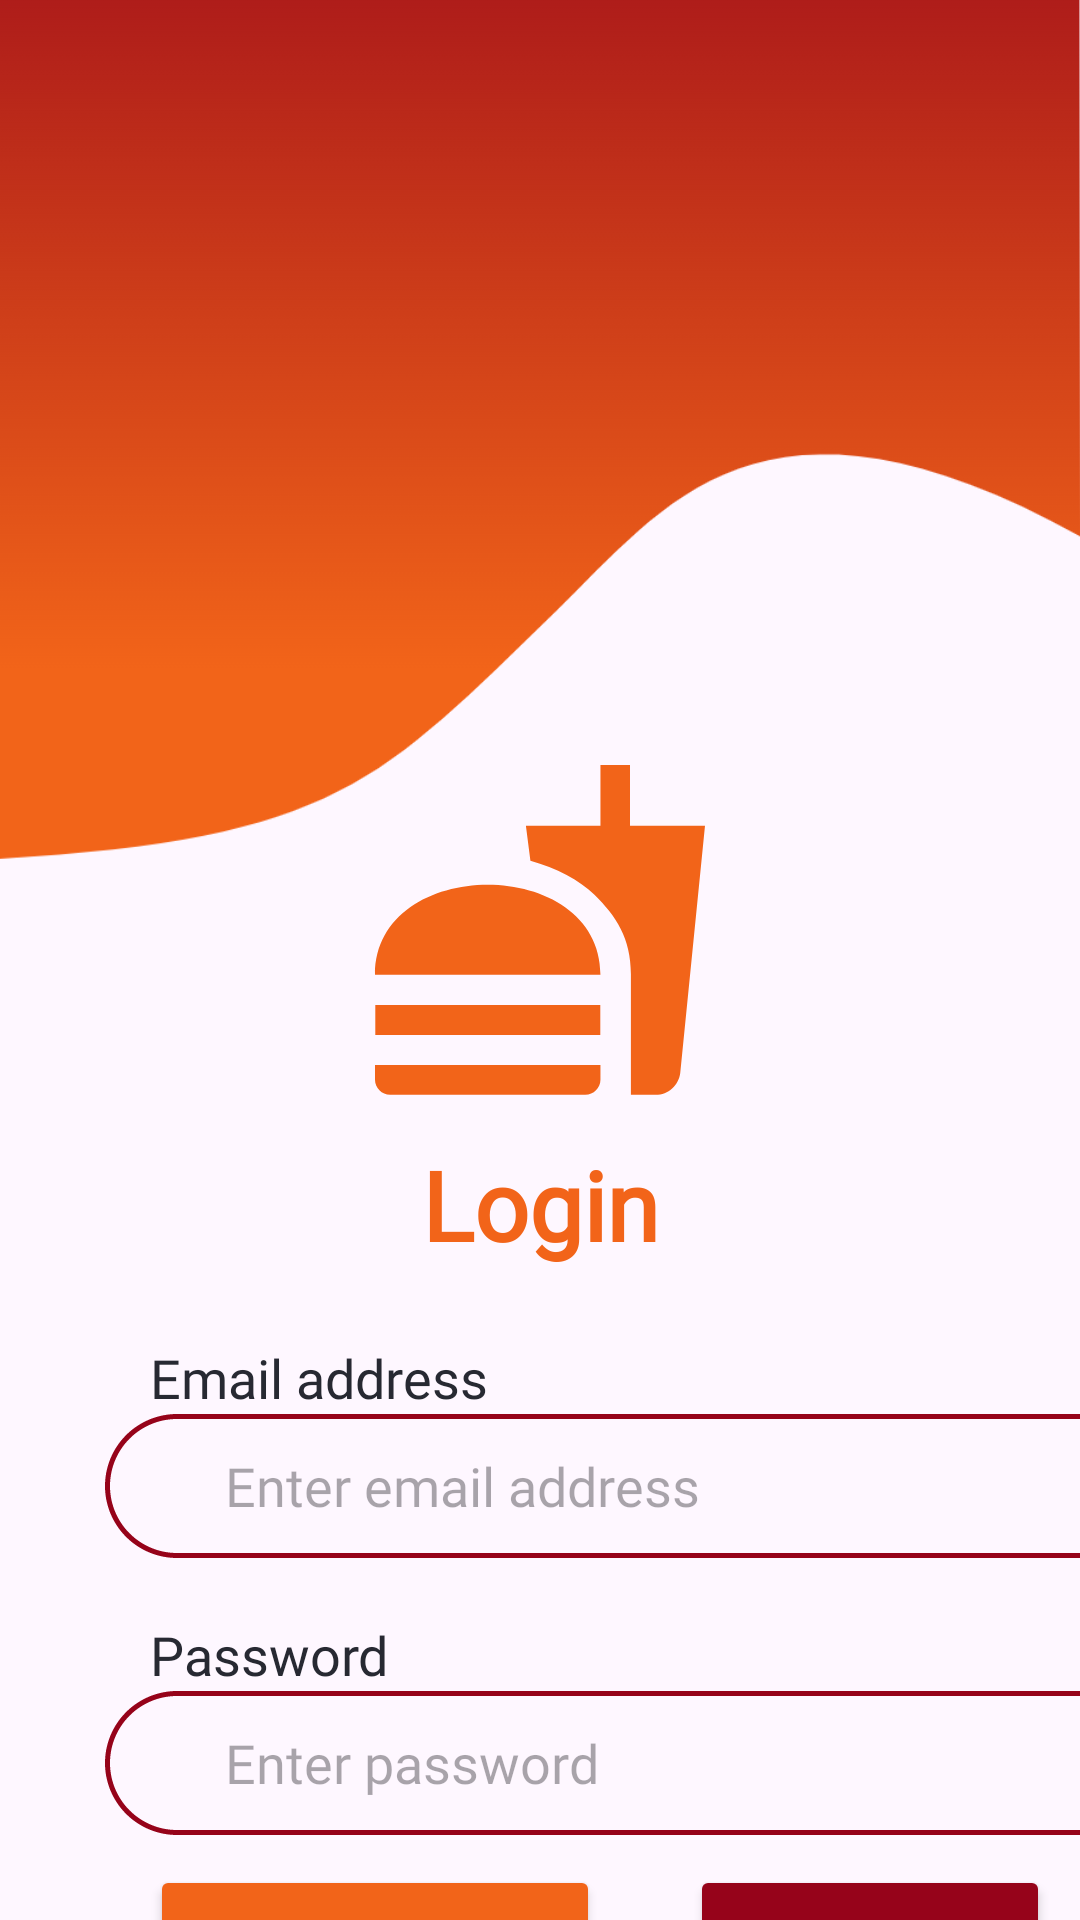

Screen size 1080px x 1920px. Icon name, then its center in pixels as [x,y]:
fastfood: [540,930]
